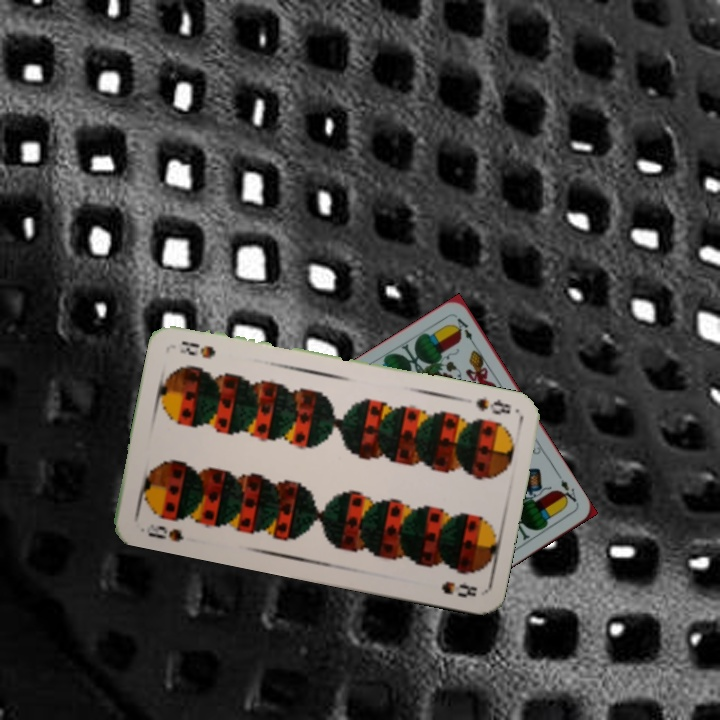EA: (555, 475, 581, 507)
S8: (136, 520, 186, 545), (471, 393, 514, 418)
